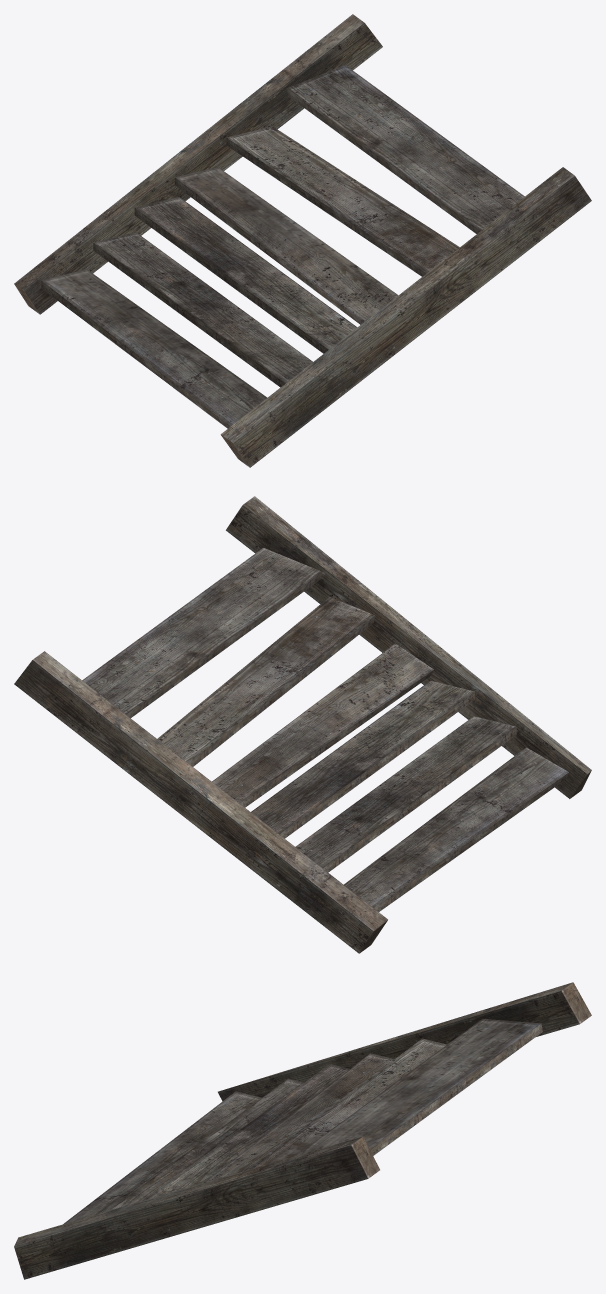
File: SM_WoodStair03.fbx
3 renders of one model, top to bottom at view 1: azimuth 30°, elevation 25°; view 2: azimuth 150°, elevation 25°; view 3: azimuth 330°, elevation 25°, orthographic.
Visible parts, largest first — view 1: SM_WoodStairs03; view 2: SM_WoodStairs03; view 3: SM_WoodStairs03.
Boxes of the visible parts, <box> form: SM_WoodStairs03: <box>14,14,591,467</box>; SM_WoodStairs03: <box>14,496,591,953</box>; SM_WoodStairs03: <box>14,982,591,1279</box>.
Bounding box in the file's own units: 168 × 95.27 × 179.
